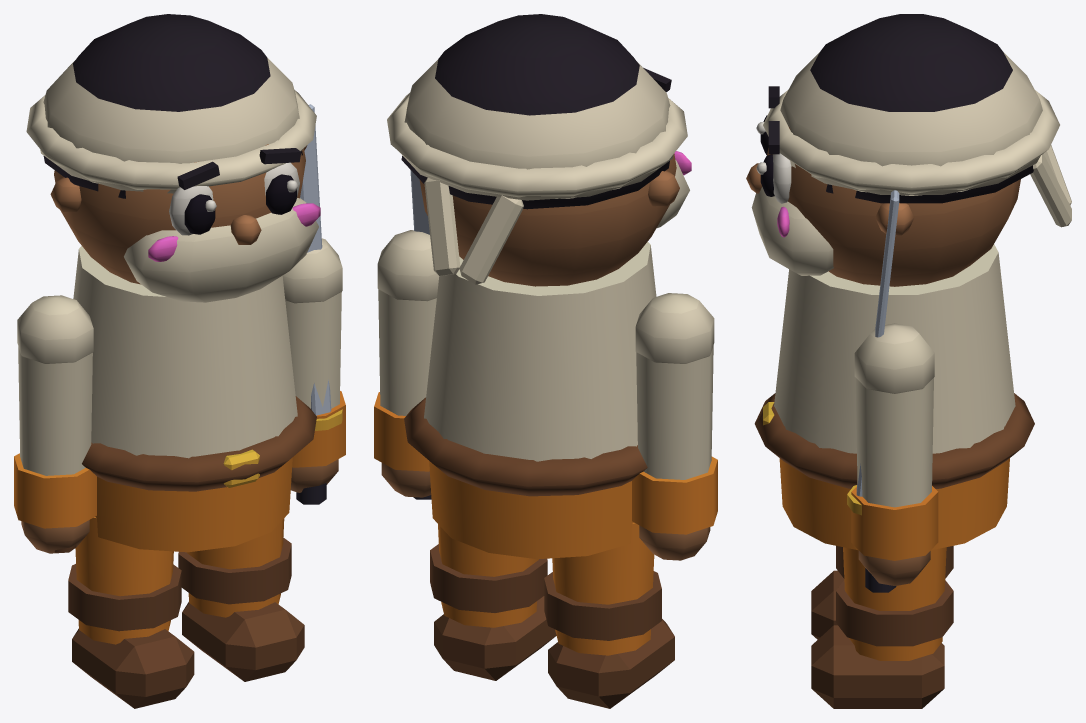
Rendered from hero_sable.glb.
The picture shows the model from 3 angles, left to right: view 1: azimuth 30°, elevation 25°; view 2: azimuth 150°, elevation 25°; view 3: azimuth 270°, elevation 25°; orthographic projection. The views are drawn at different scales.
Visible parts, largest first — view 1: body_t0_palette, arml_t0_palette, legl_t0_palette, legr_t0_palette, armr_t0_palette; view 2: body_t0_palette, arml_t0_palette, legl_t0_palette, armr_t0_palette, legr_t0_palette; view 3: body_t0_palette, armr_t0_palette, legr_t0_palette, legl_t0_palette.
Part boxes in pixels (x1,y1,x2,y2): body_t0_palette: (26, 14, 320, 552); arml_t0_palette: (14, 295, 96, 553); legl_t0_palette: (68, 517, 194, 708); legr_t0_palette: (178, 518, 304, 681); armr_t0_palette: (282, 104, 345, 504); body_t0_palette: (387, 14, 691, 559); arml_t0_palette: (632, 293, 717, 560); legl_t0_palette: (544, 522, 674, 708); armr_t0_palette: (374, 170, 439, 499); legr_t0_palette: (430, 524, 556, 680); body_t0_palette: (746, 14, 1071, 550); armr_t0_palette: (847, 190, 938, 592); legr_t0_palette: (811, 547, 953, 708); legl_t0_palette: (811, 546, 953, 639).
Size of the model in its own units: 0.27 by 0.508 by 0.2322.
